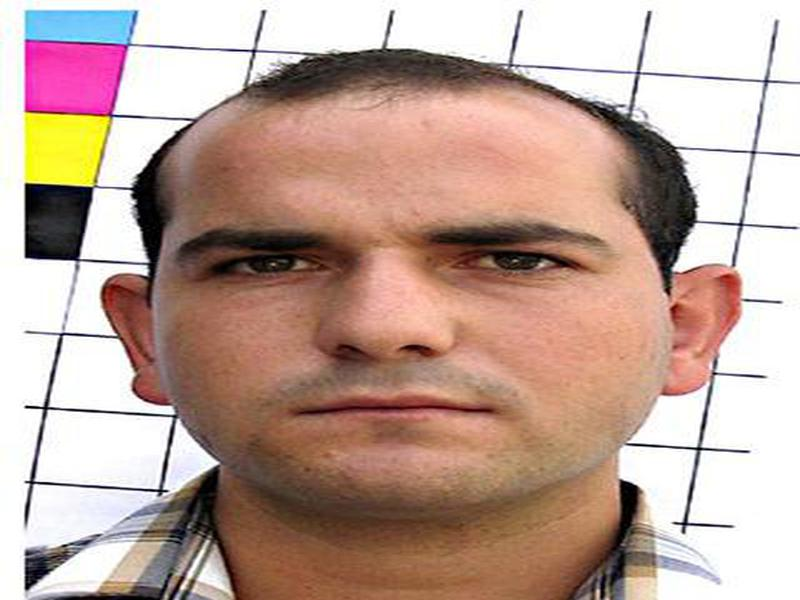without_mask: (163, 133, 649, 510)
